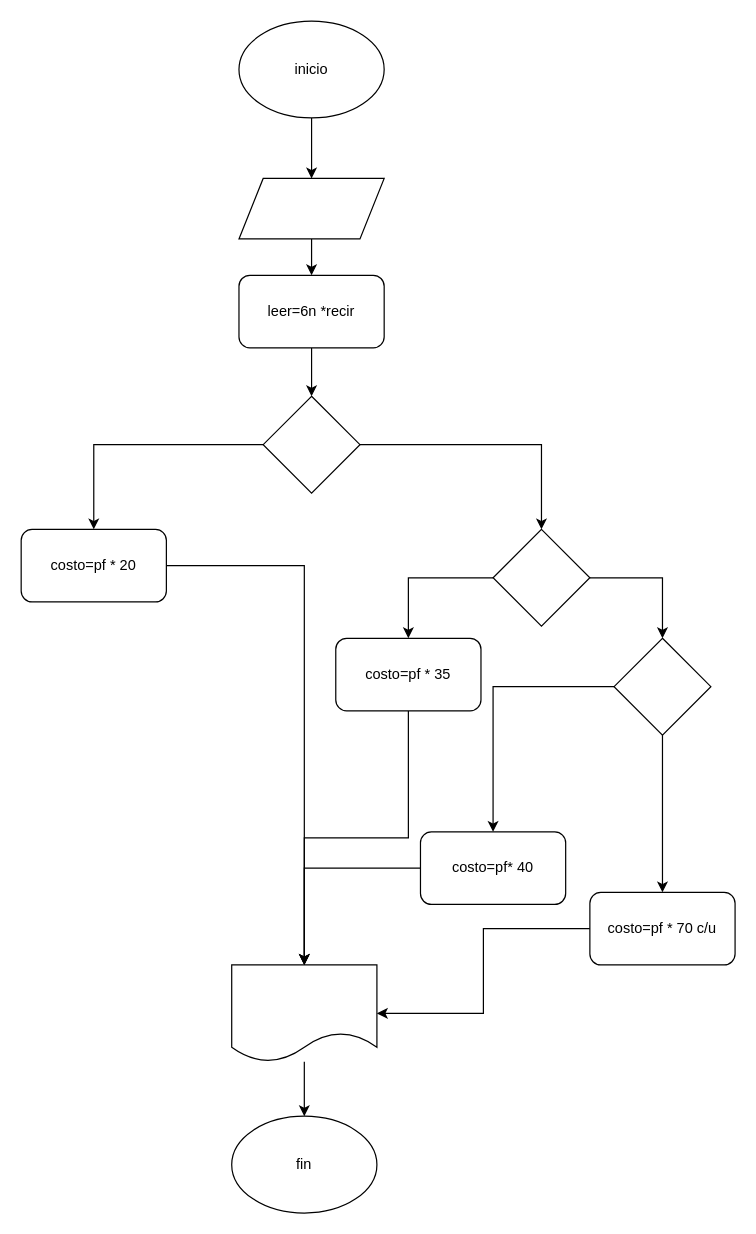
This 756x1234 diagram has some shape labels left out. The box of each missing label's shape, as (x1, y1, x2, y2) in pixels:
4 años>2mil pesos: (262, 395, 360, 493)
antiguedad: (238, 177, 384, 239)
entre 50 y 100: (492, 528, 590, 626)
pago final: (231, 964, 377, 1062)
